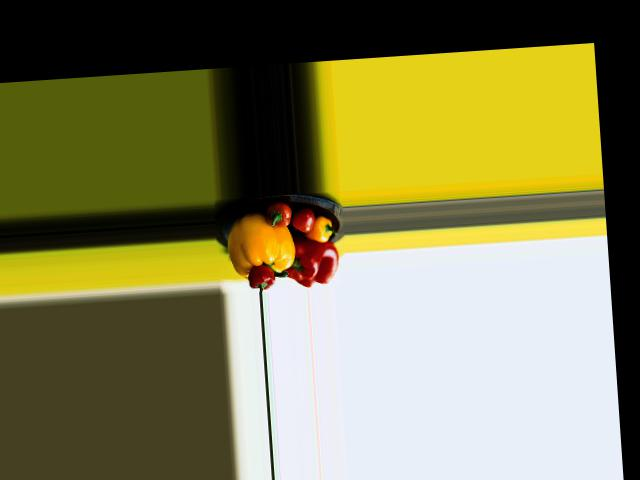bell_pepper: (307, 216, 336, 244)
